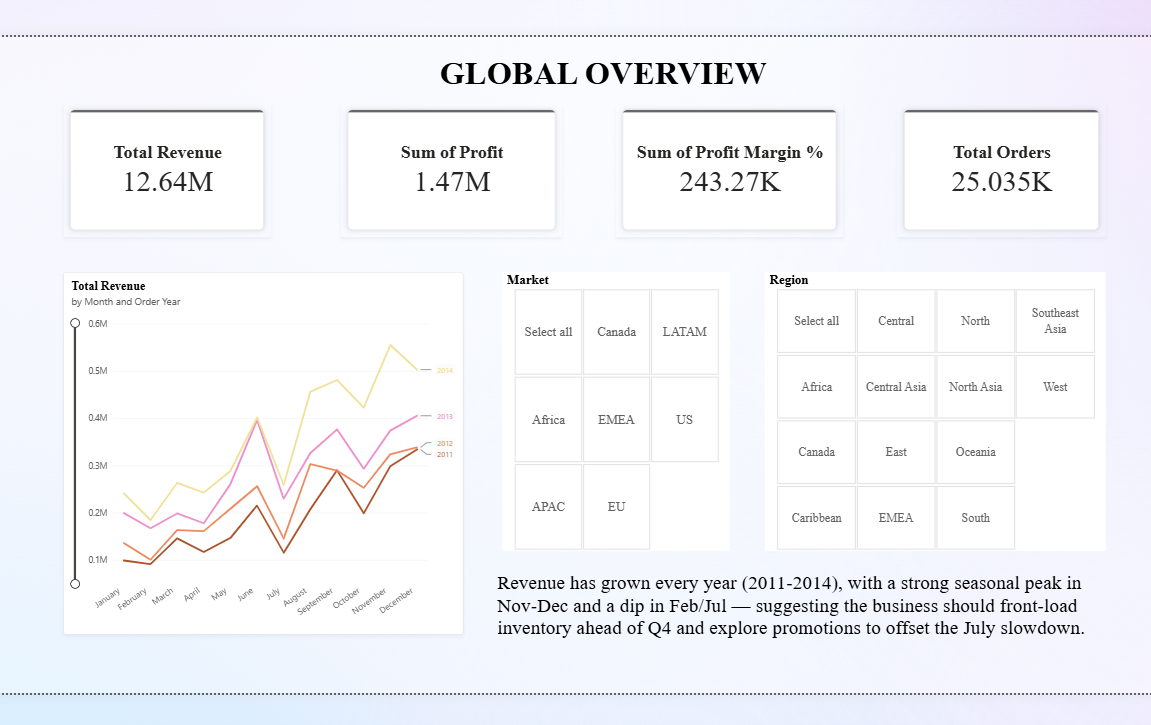

Layout of this report page (visuals, bound fields, positions):
{"tool":"powerbi","page":{"name":"Global Overview","canvas":[1920,1080],"ordinal":0},"visuals":[{"type":"cardVisual","fields":{"Data":["rfm_output.Total Revenue"]},"box":[111.1,109.1,341.7,220.2],"z":0},{"type":"cardVisual","fields":{"Data":["Sum(cleaned_global_superstore.Profit)"]},"box":[568.1,109.1,364.3,220.2],"z":1000},{"type":"cardVisual","fields":{"Data":["Sum(cleaned_global_superstore.Profit Margin %)"]},"box":[1020.9,109.1,374.6,220.2],"z":2000},{"type":"cardVisual","fields":{"Data":["rfm_output.Total Orders"]},"box":[1484.1,109.1,343.7,220.2],"z":3000},{"type":"lineChart","fields":{"Category":["cleaned_global_superstore.Order Month.Variation.Date Hierarchy.Month"],"Series":["cleaned_global_superstore.Order Year"],"Y":["rfm_output.Total Revenue"]},"box":[111.1,387,658.7,596.9],"z":4000},{"type":"slicer","fields":{"Values":["cleaned_global_superstore.Market"]},"box":[833.6,387,374.6,459],"z":5000},{"type":"slicer","fields":{"Values":["cleaned_global_superstore.Region"]},"box":[1265.9,387,561.9,459],"z":6000},{"type":"textbox","box":[854,908,187,150],"z":7000},{"type":"textbox","box":[825.4,878.9,1002.4,201.7],"z":8000},{"type":"textbox","box":[531,28.8,938.6,80.3],"z":8001}]}

Visuals, with their boxes on the page's 1920x1080 design canvas (x1, y1, x2, y2). These are canvas units, not pixel positions in the 1151x725 screenshot, which may show the page scaled, cropped or inside an application window:
cardVisual - rfm_output.Total Revenue: 111, 109, 453, 329
cardVisual - Sum(cleaned_global_superstore.Profit): 568, 109, 932, 329
cardVisual - Sum(cleaned_global_superstore.Profit Margin %): 1021, 109, 1396, 329
cardVisual - rfm_output.Total Orders: 1484, 109, 1828, 329
lineChart - cleaned_global_superstore.Order Month.Variation.Date Hierarchy.Month x cleaned_global_superstore.Order Year: 111, 387, 770, 984
slicer - cleaned_global_superstore.Market: 834, 387, 1208, 846
slicer - cleaned_global_superstore.Region: 1266, 387, 1828, 846
textbox: 854, 908, 1041, 1058
textbox: 825, 879, 1828, 1081
textbox: 531, 29, 1470, 109
